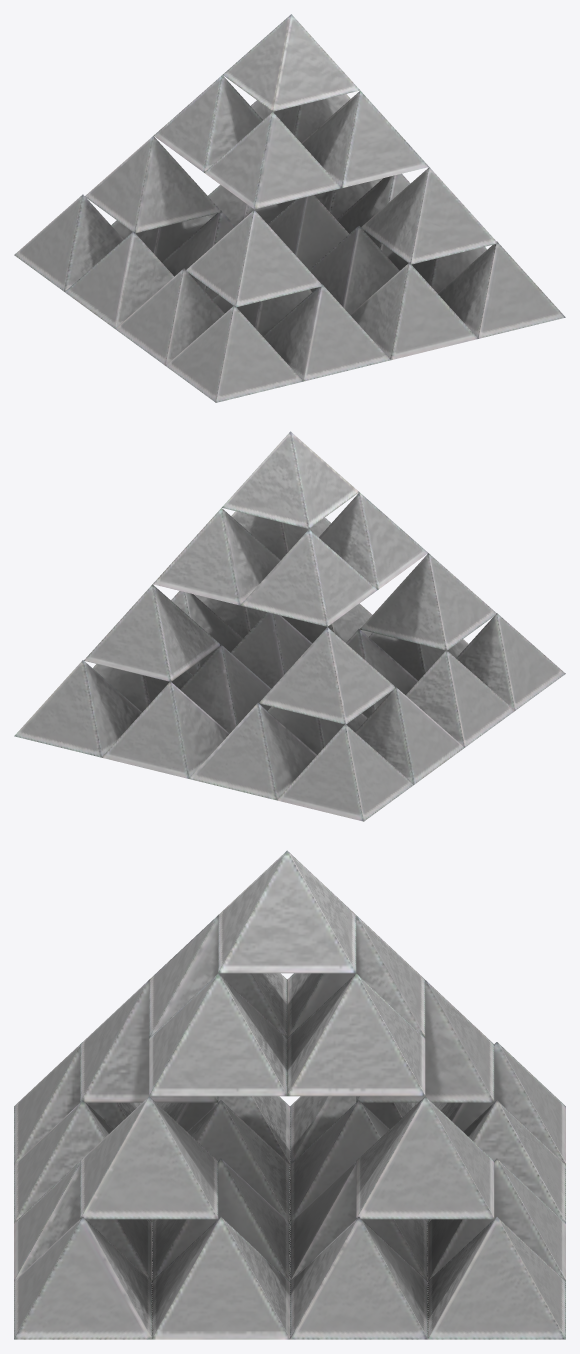
Rendered from OmniAngle.glb.
The picture shows the model from 3 angles, top to bottom: view 1: azimuth 30°, elevation 25°; view 2: azimuth 150°, elevation 25°; view 3: azimuth 270°, elevation 25°; orthographic projection. The views are drawn at different scales.
Visible parts, largest first — view 1: OmniAngle; view 2: OmniAngle; view 3: OmniAngle.
Part boxes in pixels (x1,y1,x2,y2): OmniAngle: [14, 14, 565, 402]; OmniAngle: [14, 431, 565, 821]; OmniAngle: [14, 850, 565, 1339].
Size of the model in its own units: 4 by 2.98 by 4.
Materials: 1 (1 with a texture image).
